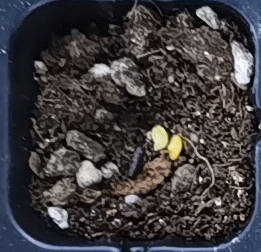pepper seed: (76, 52, 260, 214), (65, 47, 235, 199)
